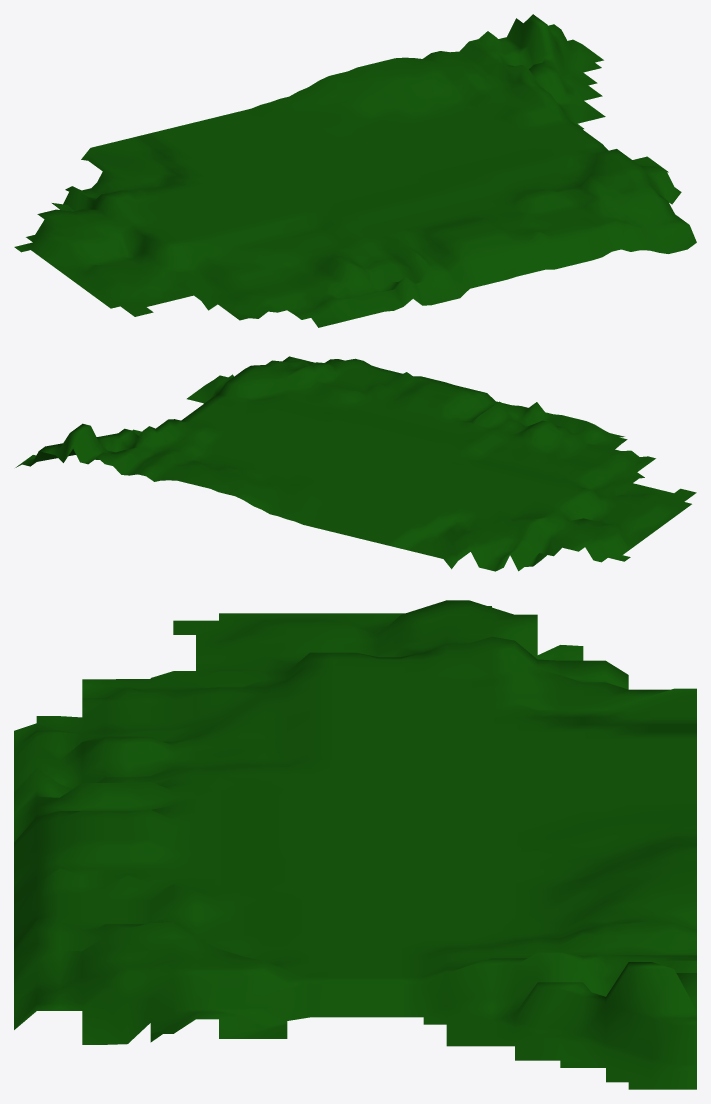
Rendered from terrain.obj.
3 views of the same model, one above another, from view 1: azimuth 30°, elevation 25°; view 2: azimuth 150°, elevation 25°; view 3: azimuth 270°, elevation 25° (orthographic). The views are drawn at different scales.
Parts seen in each view (by area): view 1: terrain2; view 2: terrain2; view 3: terrain2.
Part boxes in pixels (box(x1,y1,x2,y2)): terrain2: box(14, 14, 696, 327); terrain2: box(15, 356, 696, 571); terrain2: box(14, 600, 696, 1089).
Size of the model in its own units: 1005 by 101 by 600.
